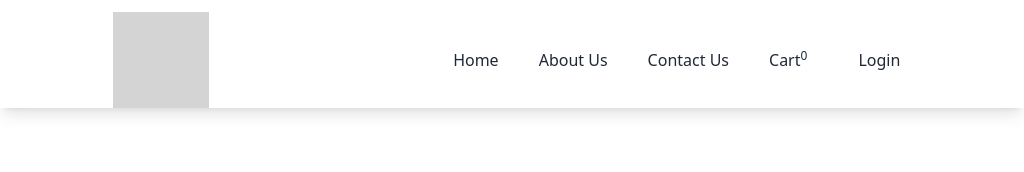
Scenario: Should change to Login on click
Click the button "Login" at (879, 60), box top-left (847, 48), bottom-right (911, 72)
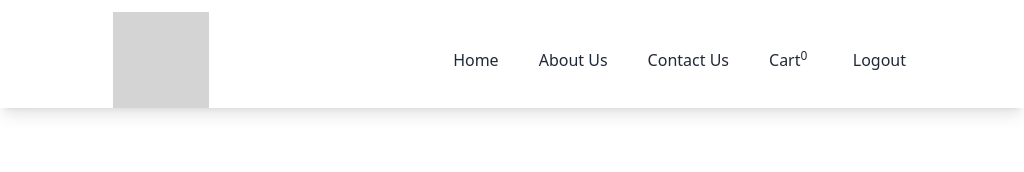
Expected: the button "Logout" is shown, top-left (847, 48), bottom-right (911, 72)
